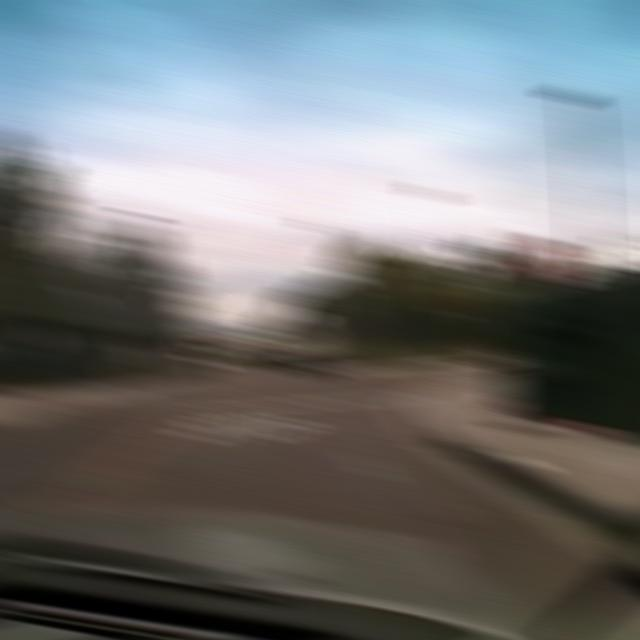stop_sign: (521, 235, 574, 284)
